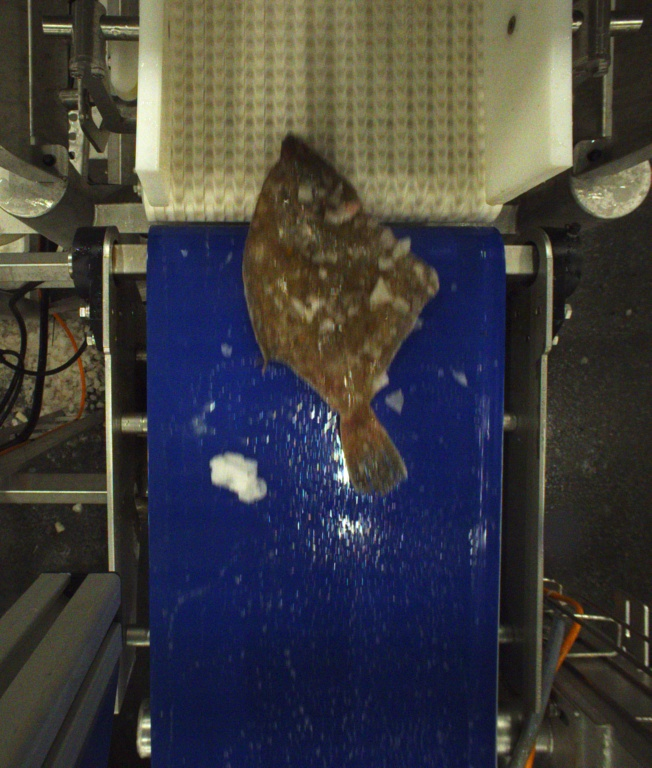PLE: (240, 132, 441, 498)
